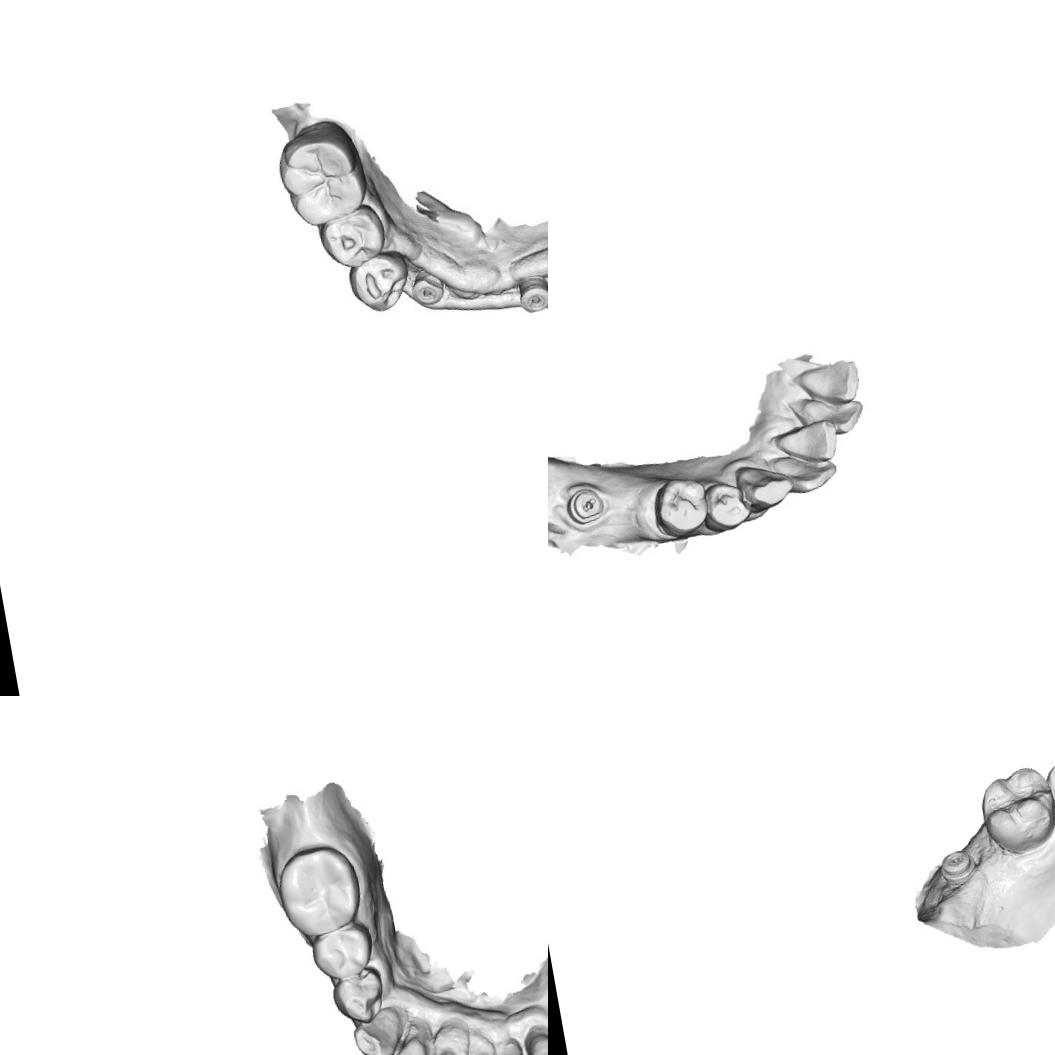canine: (733, 458, 797, 516), (348, 1004, 406, 1055)
implant: (936, 846, 979, 887), (515, 271, 548, 317)
implant_minus: (564, 484, 607, 526), (410, 270, 444, 312)
incisor: (793, 358, 864, 412), (770, 416, 842, 468), (797, 390, 868, 441), (772, 446, 840, 498), (376, 1035, 435, 1055)
molar: (270, 114, 368, 230), (272, 838, 368, 940), (973, 761, 1055, 858)
premolar: (314, 201, 392, 272), (344, 248, 414, 318), (649, 471, 713, 541), (326, 963, 393, 1028), (308, 920, 376, 982), (700, 477, 754, 534), (1042, 751, 1055, 826)
